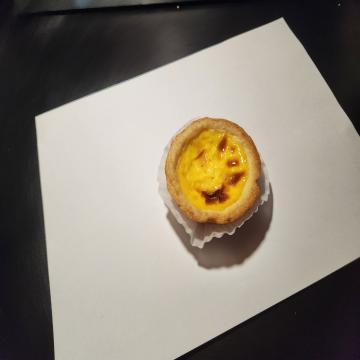EggTart: (165, 117, 262, 223)
